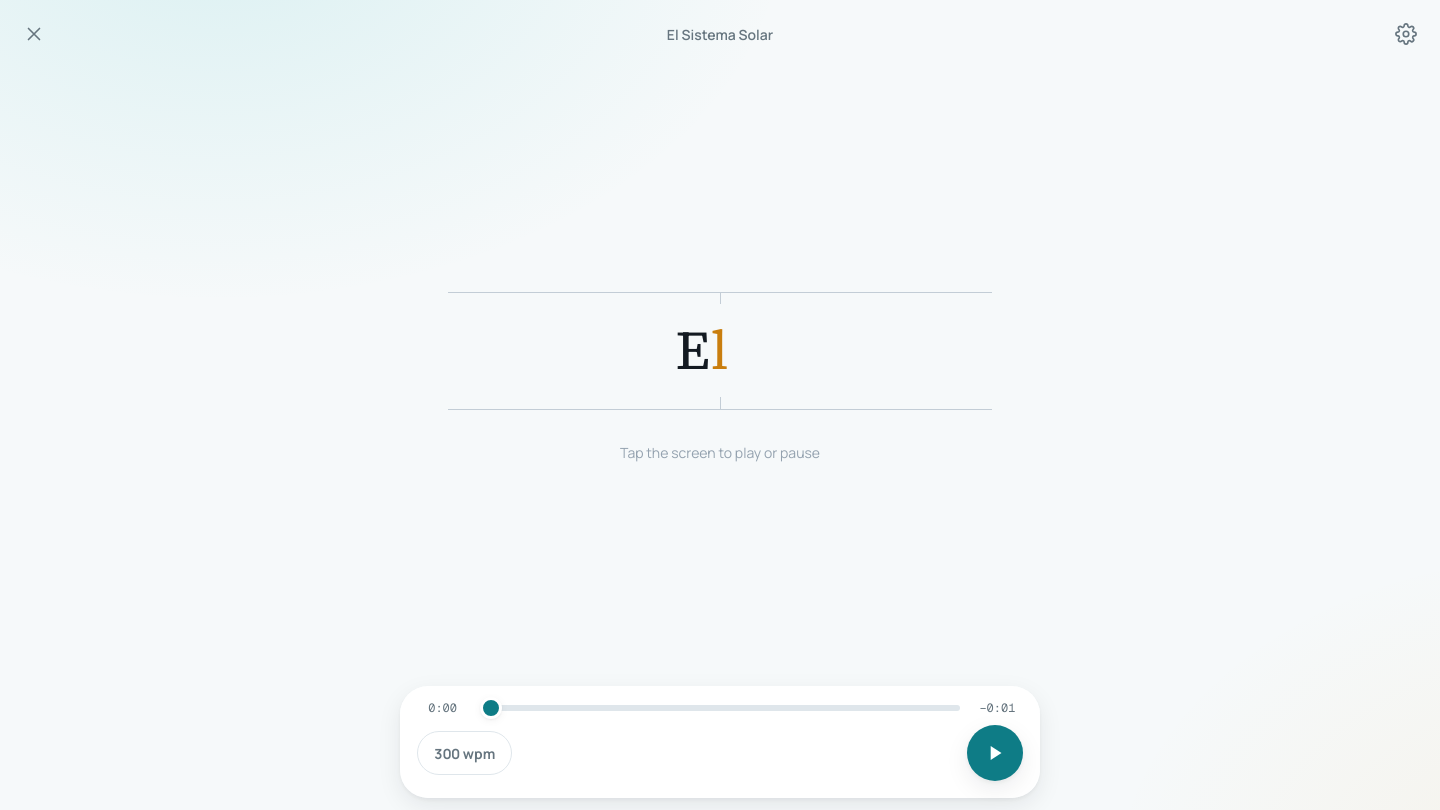
Test case: RsvpReader › Basic Behaviour › advances word by word while playing
Click the button named "Play": [995, 753] box [967,725,1023,781]
Wait 250 ms
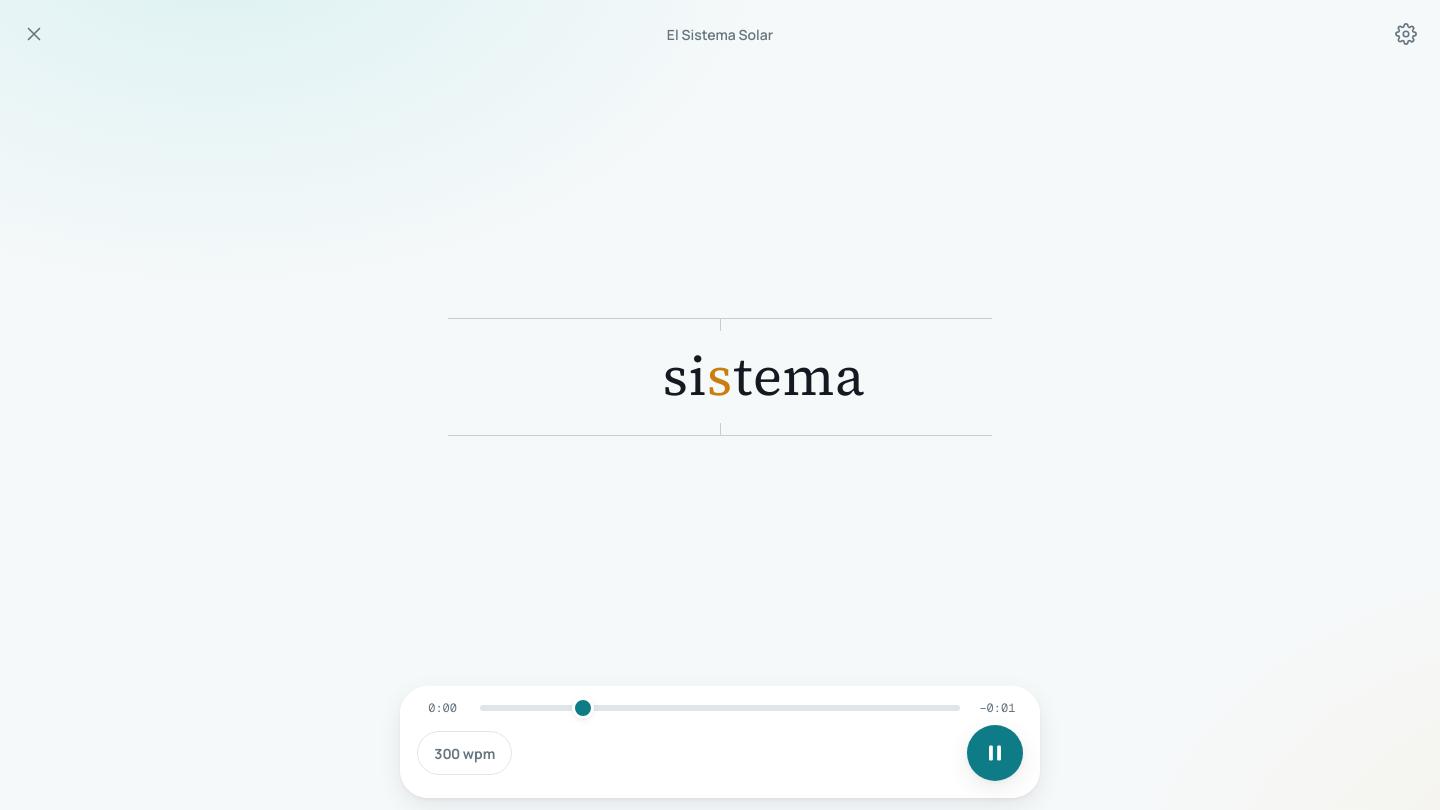
Check: the dialog named "Speed reading (RSVP)" shows "Sistema", box [667,24,773,44]
Check: the button named "Pause" is shown, box [967,725,1023,781]
